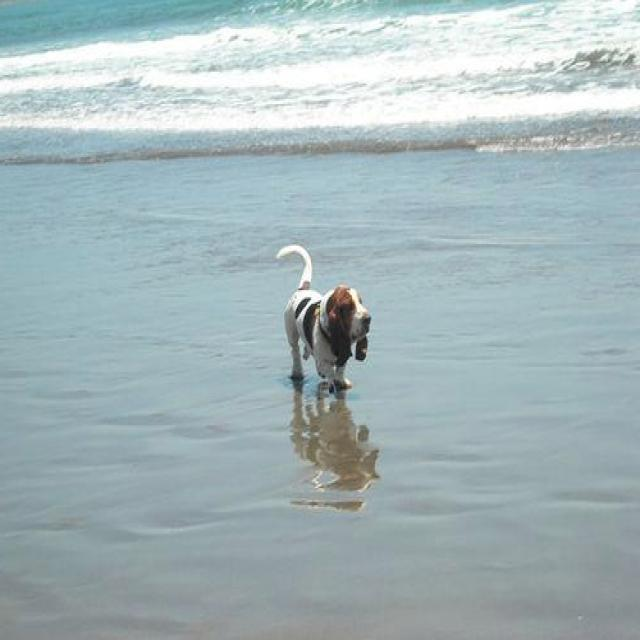basset: (274, 239, 375, 396)
